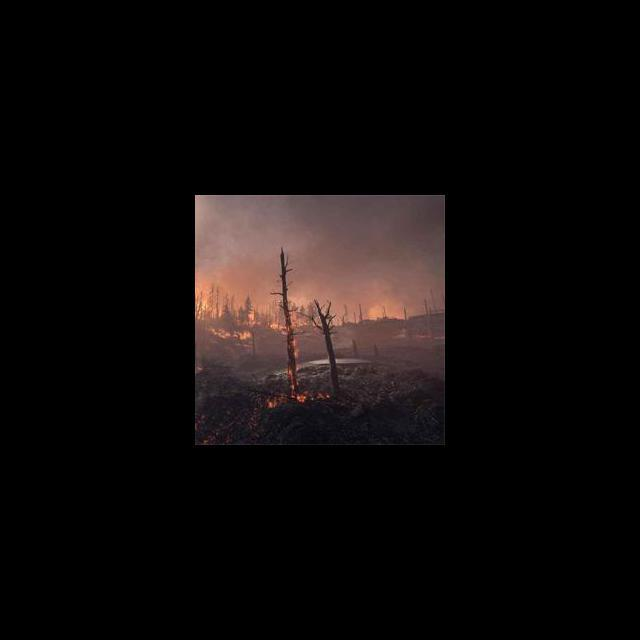Fire: (198, 277, 303, 342), (266, 340, 331, 413)
